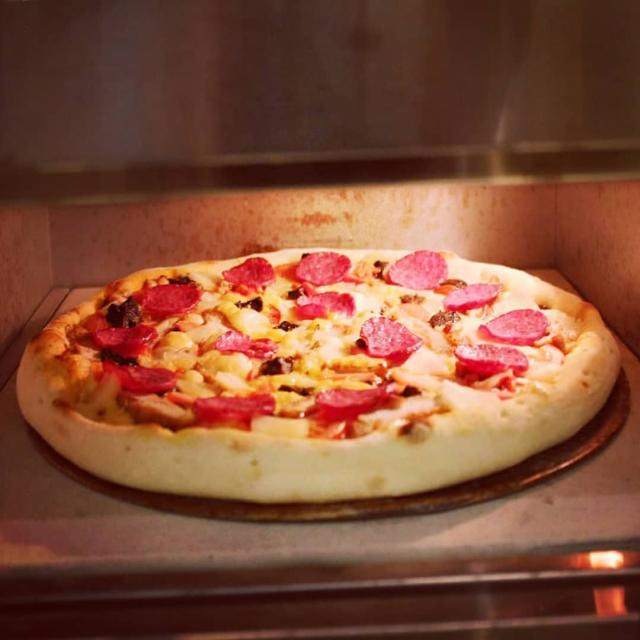pepperoni: (177, 383, 279, 431), (455, 344, 529, 384), (360, 316, 422, 363), (214, 320, 277, 366), (112, 360, 178, 396), (317, 387, 393, 418), (389, 250, 447, 290), (480, 309, 547, 343), (140, 284, 201, 317), (223, 257, 275, 294), (296, 252, 352, 286), (92, 324, 158, 349), (444, 284, 502, 312), (296, 292, 355, 318)
pizza: (14, 248, 616, 502)
